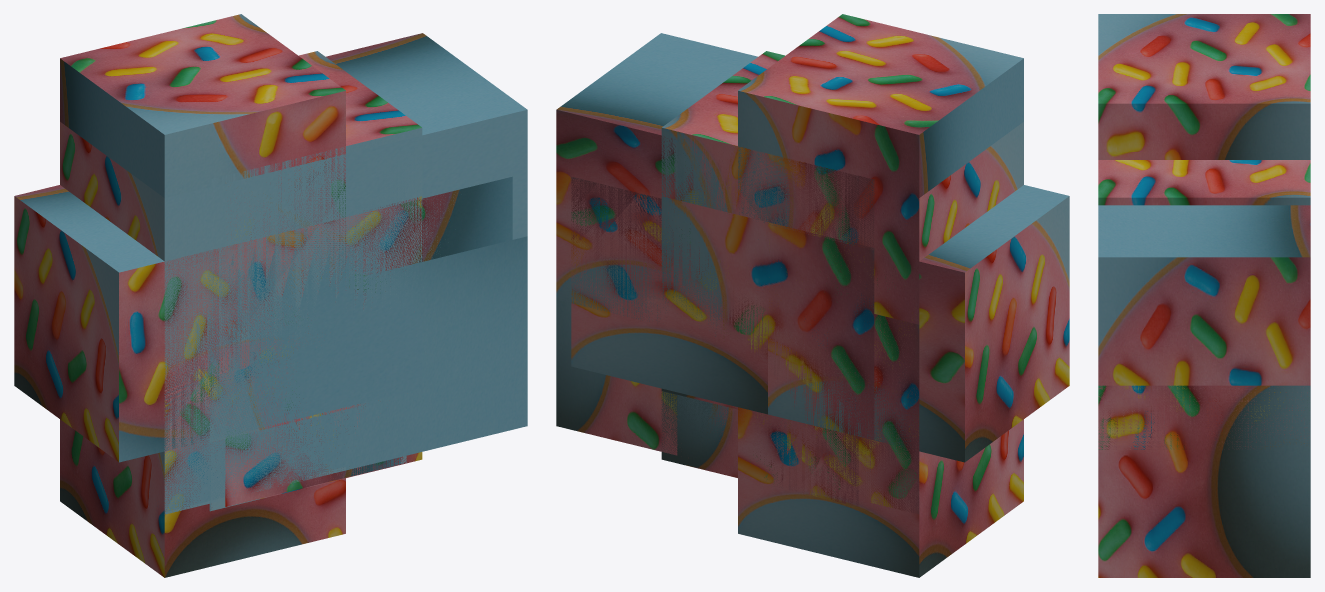
Rendered from p2Movable.fbx.
3 renders of one model, left to right at view 1: azimuth 30°, elevation 25°; view 2: azimuth 150°, elevation 25°; view 3: azimuth 270°, elevation 25°, orthographic.
Visible parts, largest first — view 1: Cube.004, Cube.001, Cube.002, Cube, Cube.006, Cube.003, Cube.005; view 2: Cube.001, Cube.004, Cube.002, Cube, Cube.003, Cube.006, Cube.005; view 3: Cube.001, Cube.004, Cube.006.
Part boxes in pixels (x1=…): Cube.004: x1=60, y1=33, x2=527, y2=577; Cube.001: x1=60, y1=14, x2=527, y2=514; Cube.002: x1=14, y1=176, x2=512, y2=462; Cube: x1=209, y1=210, x2=422, y2=439; Cube.006: x1=209, y1=51, x2=422, y2=511; Cube.003: x1=225, y1=133, x2=406, y2=506; Cube.005: x1=209, y1=196, x2=422, y2=442; Cube.001: x1=556, y1=14, x2=1023, y2=513; Cube.004: x1=556, y1=33, x2=1023, y2=577; Cube.002: x1=571, y1=177, x2=1069, y2=462; Cube: x1=661, y1=199, x2=874, y2=440; Cube.003: x1=677, y1=132, x2=858, y2=506; Cube.006: x1=661, y1=51, x2=874, y2=477; Cube.005: x1=661, y1=196, x2=874, y2=442; Cube.001: x1=1098, y1=14, x2=1310, y2=577; Cube.004: x1=1098, y1=205, x2=1310, y2=449; Cube.006: x1=1098, y1=160, x2=1310, y2=205.
Size of the model in its own units: 450 by 467 by 200.
